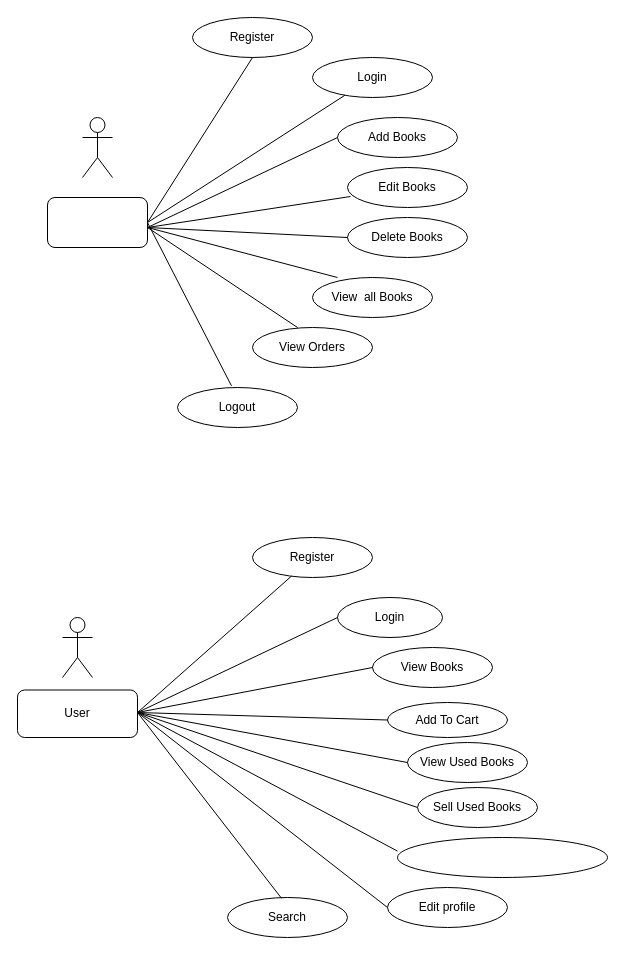
Image size: 625x955. Some labels were removed from this diagram. The box of each missing label's shape, as (x1, y1, x2, y2) in pixels:
Admin: (46, 196, 148, 248)
View Sell Used History: (396, 836, 608, 878)
